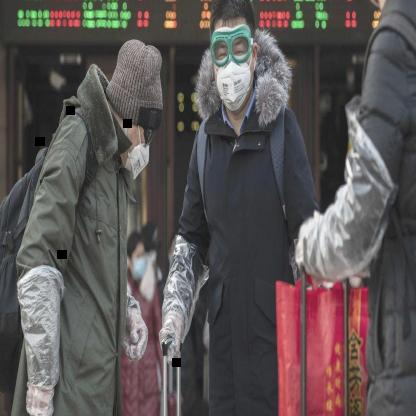mask: (108, 33, 167, 185), (205, 0, 263, 118), (124, 221, 150, 283)
